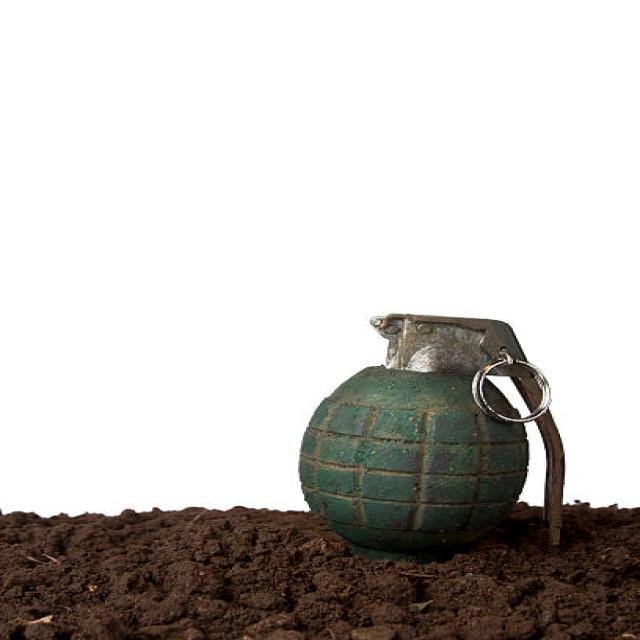grenade: (286, 304, 580, 562)
